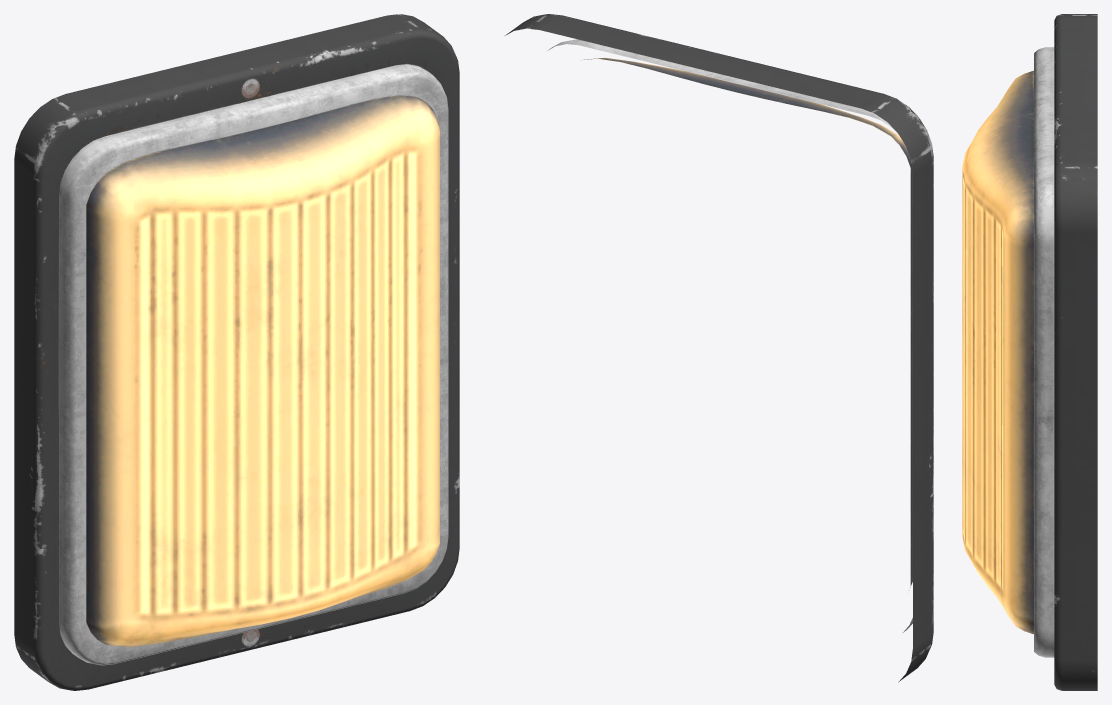
File: SM_Rectangle_Light_01a.glb
3 renders of one model, left to right at view 1: azimuth 30°, elevation 25°; view 2: azimuth 150°, elevation 25°; view 3: azimuth 270°, elevation 25°, orthographic. The views are drawn at different scales.
Parts seen in each view (by area): view 1: SM_Rectangle_Light_01a; view 2: SM_Rectangle_Light_01a; view 3: SM_Rectangle_Light_01a.
Boxes of the visible parts, left/top/right/bottom form: SM_Rectangle_Light_01a: left=14, top=14, right=459, bottom=690; SM_Rectangle_Light_01a: left=505, top=14, right=933, bottom=682; SM_Rectangle_Light_01a: left=962, top=14, right=1097, bottom=690.
Size of the model in its own units: 0.3509 by 0.4586 by 0.1069.
1 material, 1 textured.
